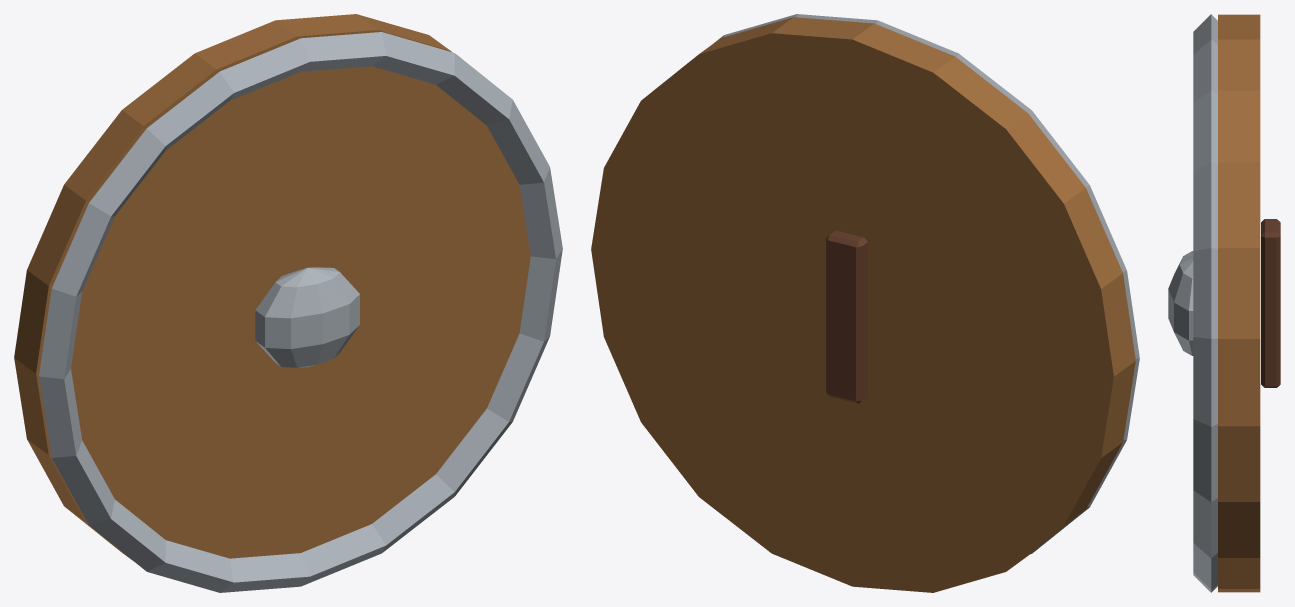
File: freydis-buckler.glb
3 renders of one model, left to right at view 1: azimuth 30°, elevation 25°; view 2: azimuth 150°, elevation 25°; view 3: azimuth 270°, elevation 25°, orthographic. The views are drawn at different scales.
Parts seen in each view (by area): view 1: Buckler_Customizable_Face, Buckler_Metal_Rim, Buckler_Boss; view 2: Buckler_Customizable_Face, Buckler_Arm_Brace, Buckler_Metal_Rim; view 3: Buckler_Customizable_Face, Buckler_Metal_Rim, Buckler_Arm_Brace, Buckler_Boss.
Part boxes in pixels (x1,y1,x2,y2): Buckler_Customizable_Face: (14, 14, 530, 559); Buckler_Metal_Rim: (39, 32, 562, 592); Buckler_Boss: (255, 267, 359, 367); Buckler_Customizable_Face: (591, 17, 1135, 592); Buckler_Arm_Brace: (826, 230, 867, 403); Buckler_Metal_Rim: (714, 14, 1139, 554); Buckler_Customizable_Face: (1218, 14, 1260, 592); Buckler_Metal_Rim: (1193, 14, 1217, 592); Buckler_Arm_Brace: (1261, 219, 1280, 387); Buckler_Boss: (1168, 251, 1193, 355).
Size of the model in its own units: 44.1 by 44.1 by 8.5.
